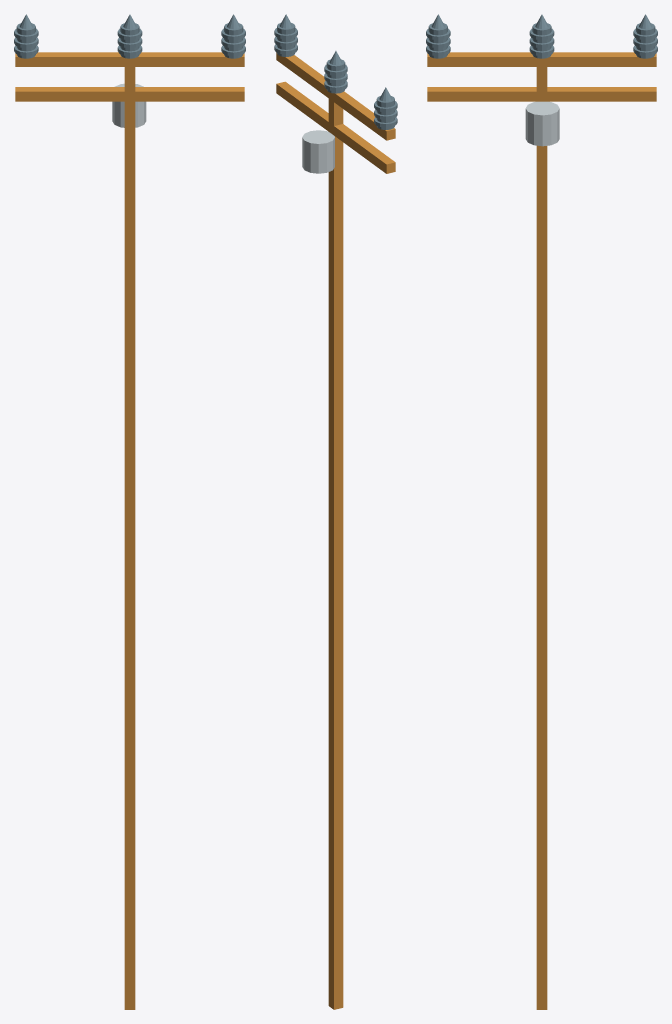
File: model_powerline_single.fbx
3 views of the same model, side by side, from view 1: azimuth 90°, elevation 25°; view 2: azimuth 210°, elevation 25°; view 3: azimuth 270°, elevation 25° (orthographic). The views are drawn at different scales.
Parts seen in each view (by area): view 1: mesh_923956458, group_440172050, group_715347984, group_1657869, group_556216434, group_919581240, mesh_136040205; view 2: mesh_923956458, group_440172050, group_715347984, mesh_136040205, group_1657869, group_556216434, group_919581240; view 3: mesh_923956458, group_440172050, group_715347984, mesh_136040205, group_1657869, group_556216434, group_919581240.
Boxes of the visible parts, left/top/right/bottom form: mesh_923956458: left=124, top=58, right=135, bottom=1009; group_440172050: left=15, top=87, right=244, bottom=101; group_715347984: left=15, top=52, right=244, bottom=66; group_1657869: left=117, top=14, right=142, bottom=58; group_556216434: left=14, top=14, right=38, bottom=58; group_919581240: left=221, top=14, right=245, bottom=58; mesh_136040205: left=112, top=83, right=146, bottom=127; mesh_923956458: left=328, top=92, right=343, bottom=1009; group_440172050: left=276, top=81, right=395, bottom=173; group_715347984: left=276, top=52, right=395, bottom=140; mesh_136040205: left=302, top=130, right=334, bottom=173; group_1657869: left=324, top=51, right=347, bottom=93; group_556216434: left=374, top=87, right=397, bottom=129; group_919581240: left=274, top=14, right=297, bottom=56; mesh_923956458: left=536, top=58, right=547, bottom=1009; group_440172050: left=427, top=87, right=656, bottom=101; group_715347984: left=427, top=52, right=656, bottom=66; mesh_136040205: left=525, top=101, right=559, bottom=146; group_1657869: left=529, top=14, right=554, bottom=58; group_556216434: left=633, top=14, right=657, bottom=58; group_919581240: left=426, top=14, right=450, bottom=58.
Bounding box in the file's own units: 37 × 804 × 170.
